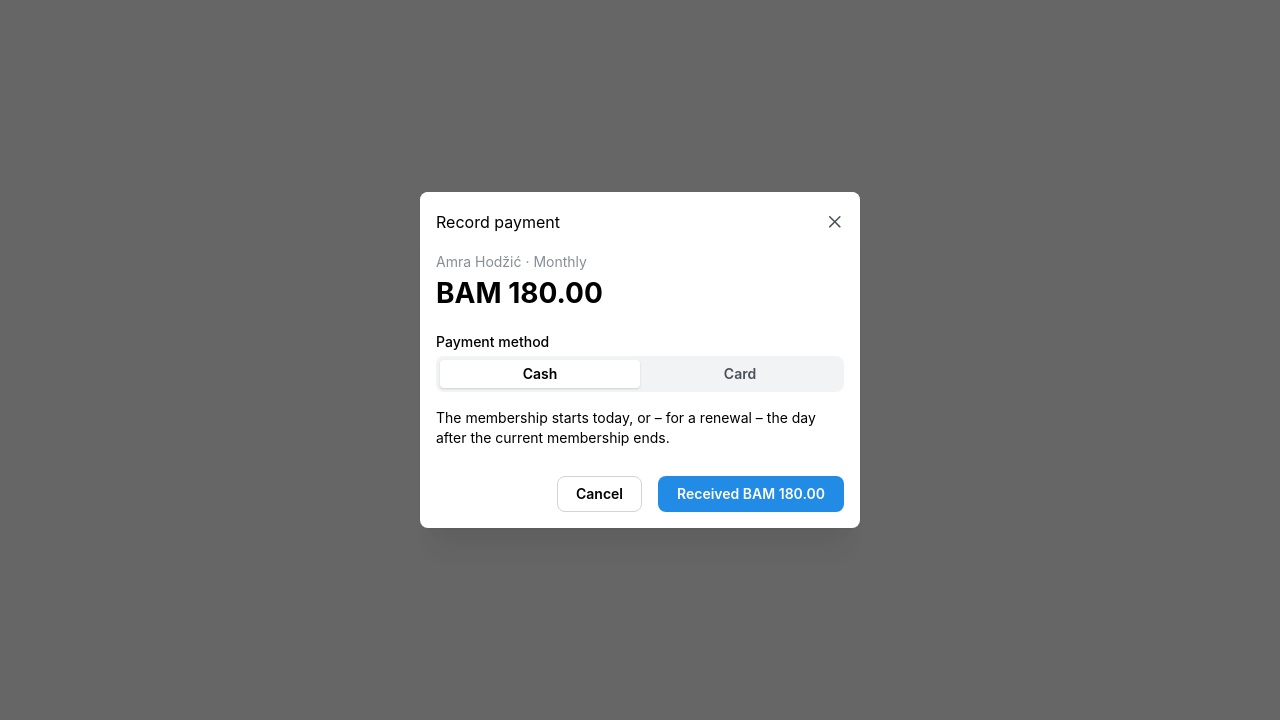
RecordPaymentModal › shows the API's refusal (e.g. already paid at the other desk)
The image size is (1280, 720).
Click the button "Received BAM 180.00".
click(751, 494)  # box [658,476,844,512]
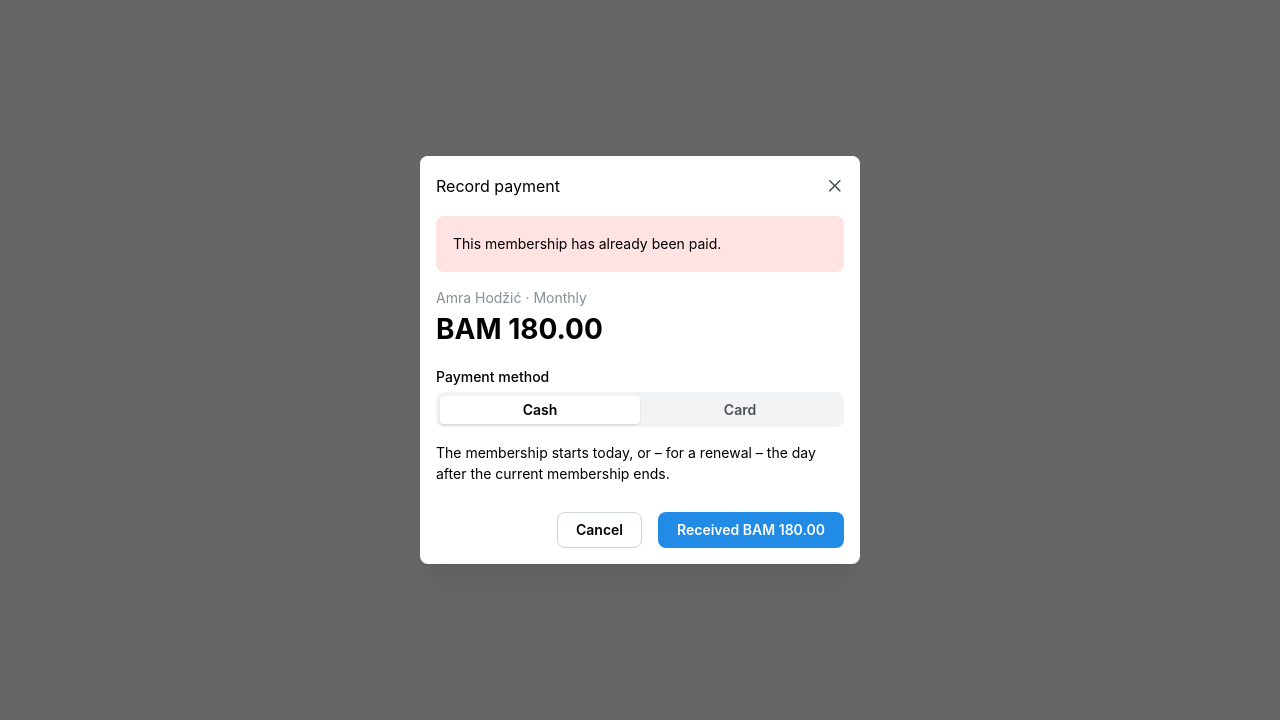
Expected: the text "This membership has already been paid." is shown, [453,235,721,252]
